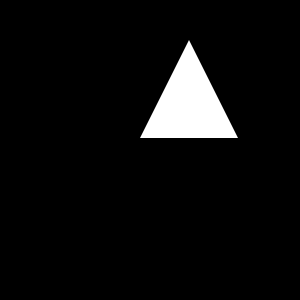triangle: (140, 40, 238, 138)
